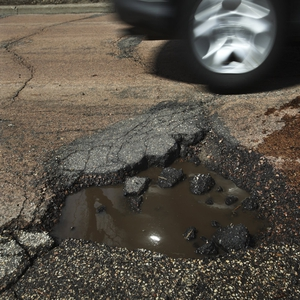pothole: (38, 128, 285, 268)
